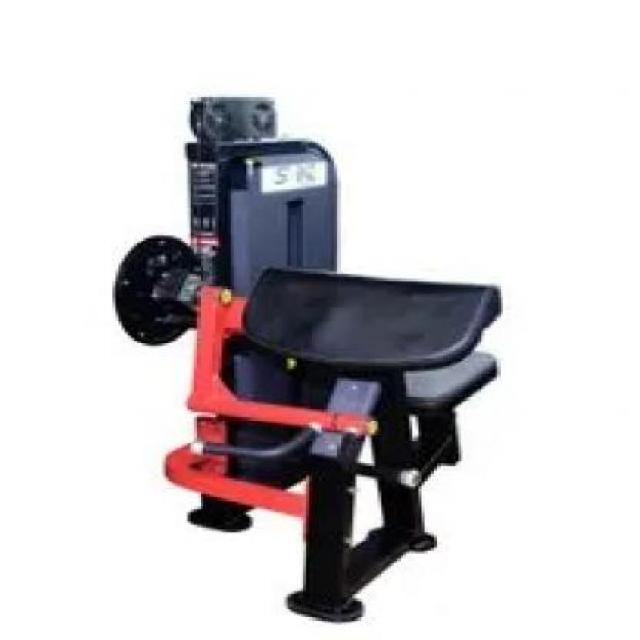arm curl machine: (110, 97, 504, 626)
